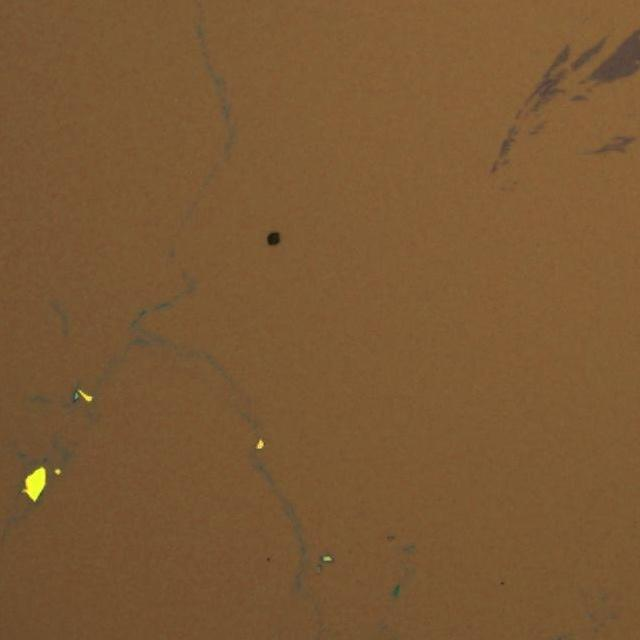monolayer-eWW4: (582, 0, 640, 86), (568, 34, 608, 74), (589, 132, 640, 158), (542, 40, 568, 81)
